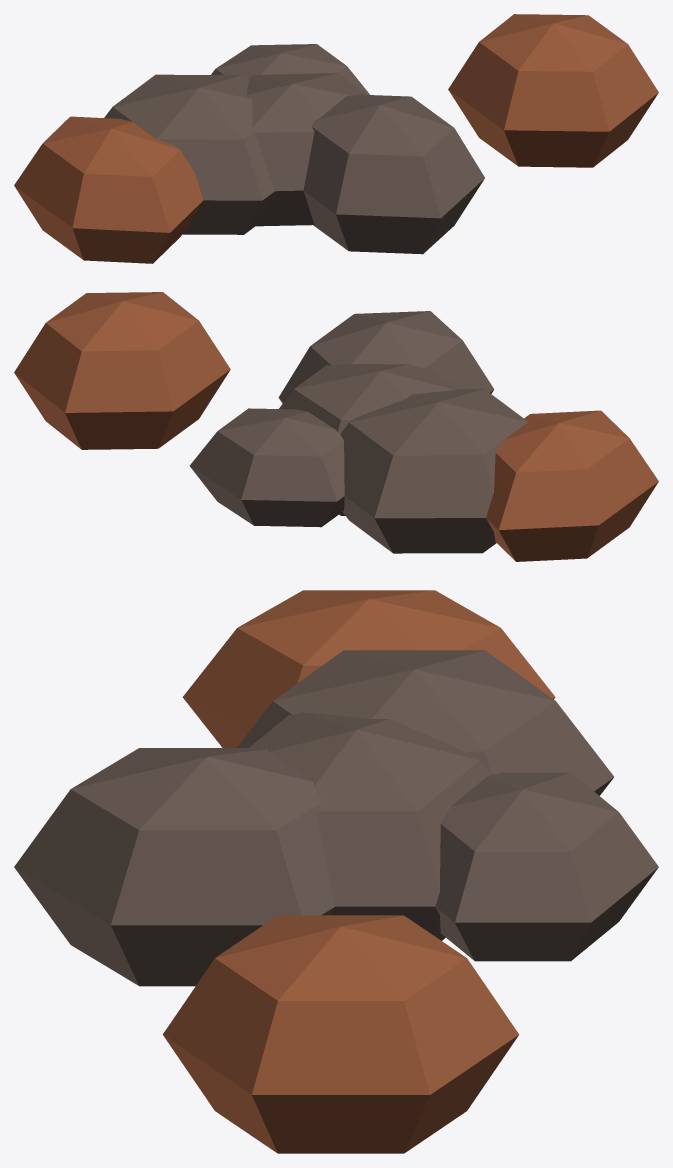
Rendered from pile_iron_ore_1.glb.
3 renders of one model, top to bottom at view 1: azimuth 30°, elevation 25°; view 2: azimuth 150°, elevation 25°; view 3: azimuth 270°, elevation 25°, orthographic. The views are drawn at different scales.
Parts seen in each view (by area): view 1: pile_iron_ore_1; view 2: pile_iron_ore_1; view 3: pile_iron_ore_1.
Part boxes in pixels (x1,y1,x2,y2): pile_iron_ore_1: (14,14,658,263); pile_iron_ore_1: (14,292,658,561); pile_iron_ore_1: (14,590,658,1153).
Size of the model in its own units: 1.15 by 0.2618 by 0.694.
